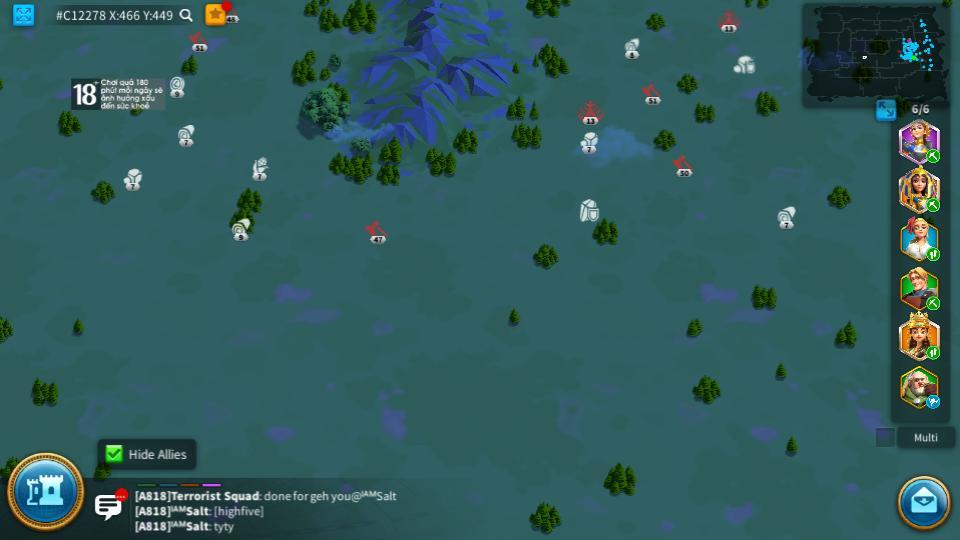march_farming: (925, 197, 941, 212)
march_idle: (925, 396, 942, 408)
march_marching: (925, 345, 941, 359), (925, 150, 941, 162), (925, 297, 942, 308)
